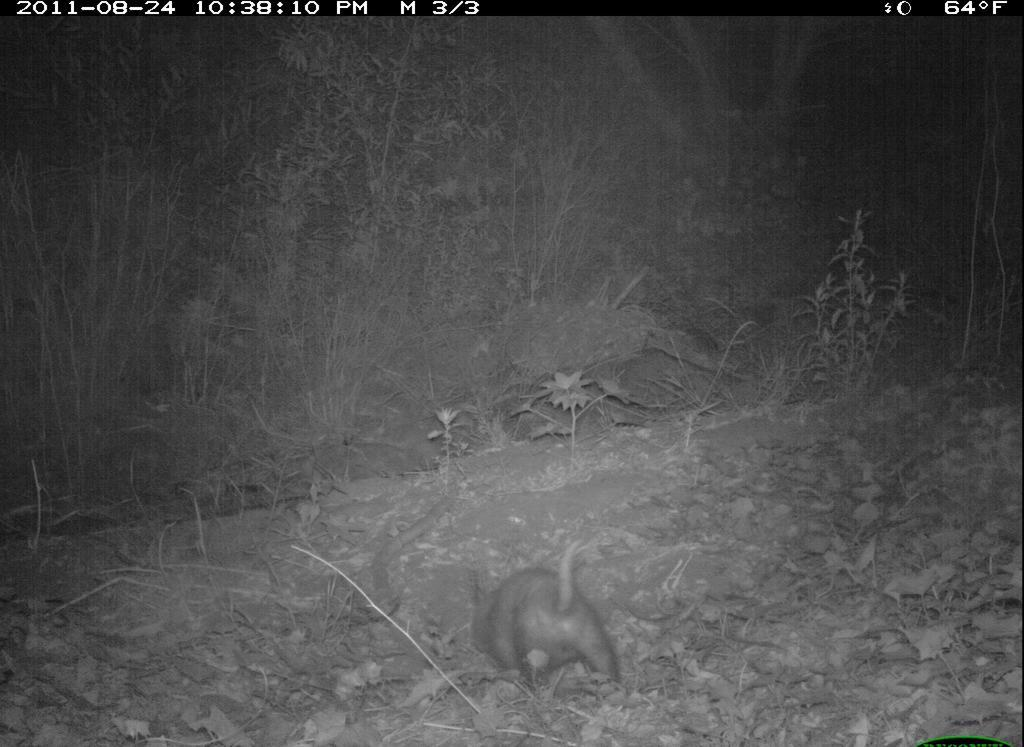opossum: (461, 523, 635, 705)
